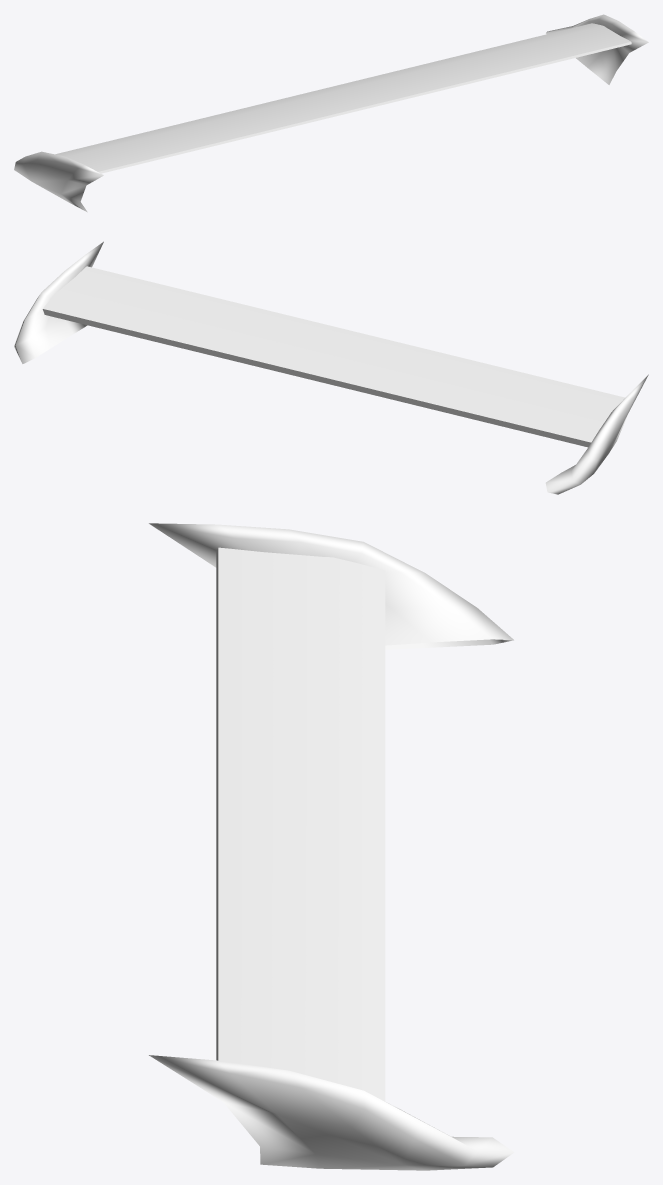
The model's file is spl_a_f_r.glb.
The picture shows the model from 3 angles, top to bottom: view 1: azimuth 30°, elevation 25°; view 2: azimuth 150°, elevation 25°; view 3: azimuth 270°, elevation 25°; orthographic projection. The views are drawn at different scales.
Visible parts, largest first — view 1: spl_a_f_r; view 2: spl_a_f_r; view 3: spl_a_f_r.
Boxes of the visible parts, box(x1,y1,x2,y2) form: spl_a_f_r: box(14, 14, 648, 212); spl_a_f_r: box(14, 241, 648, 494); spl_a_f_r: box(149, 523, 514, 1170).
Bounding box in the file's own units: 1.56 × 0.1581 × 0.4317.
1 material, 1 textured.
